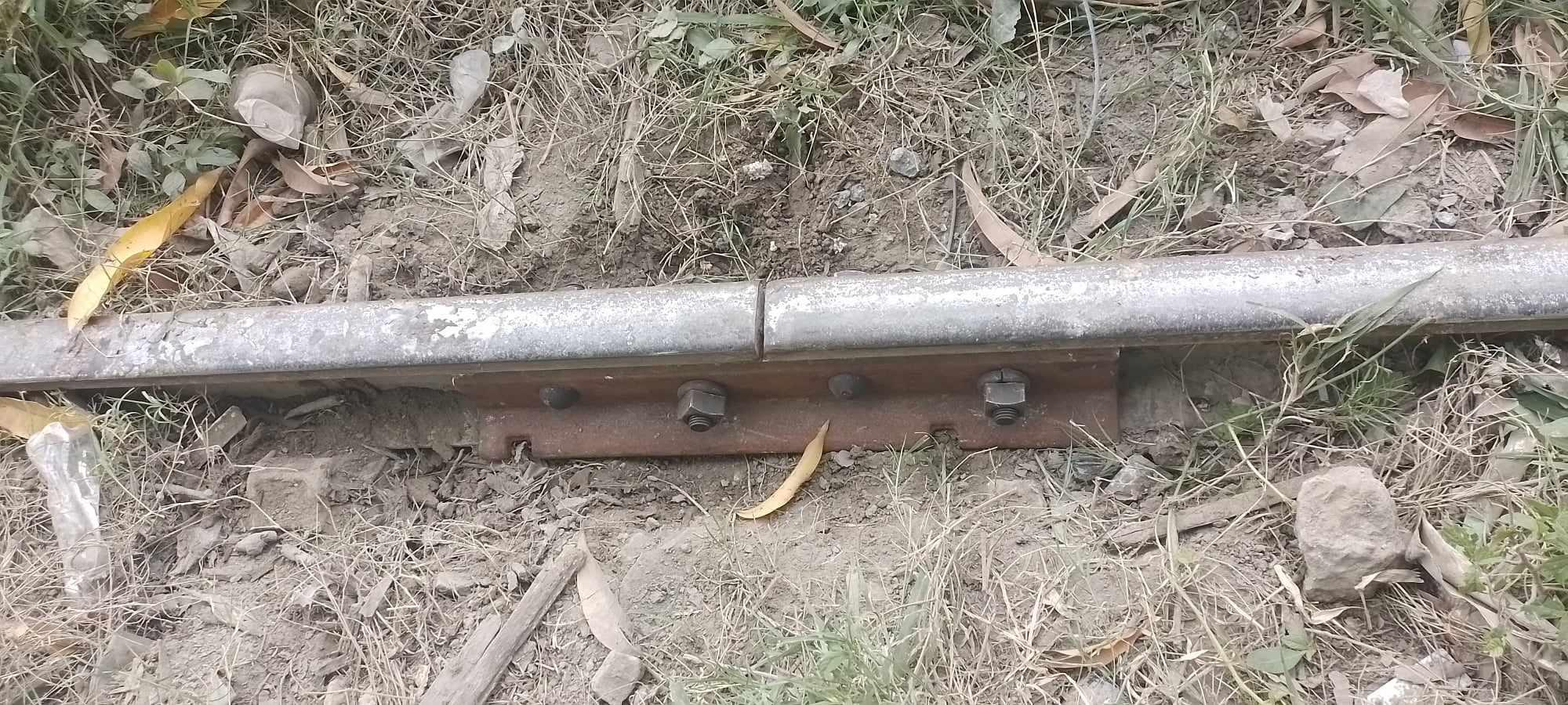railway-gap: (697, 262, 827, 380)
